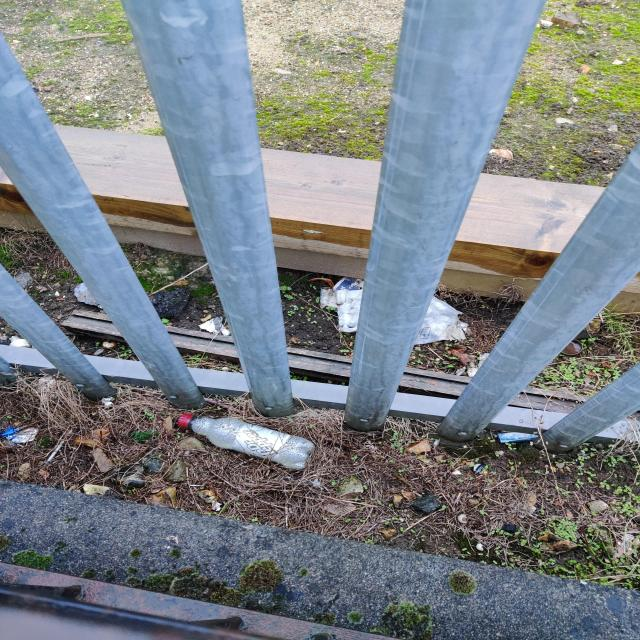litter: (163, 410, 323, 473), (417, 294, 470, 349), (316, 290, 364, 337)
